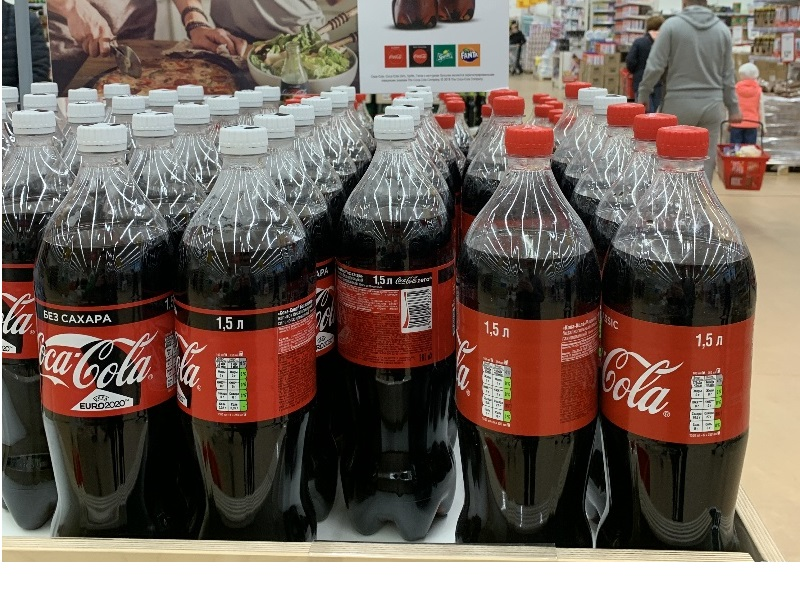lemonade: (30, 119, 207, 542), (596, 123, 760, 556), (324, 114, 470, 544), (457, 124, 605, 547), (177, 127, 324, 547)
